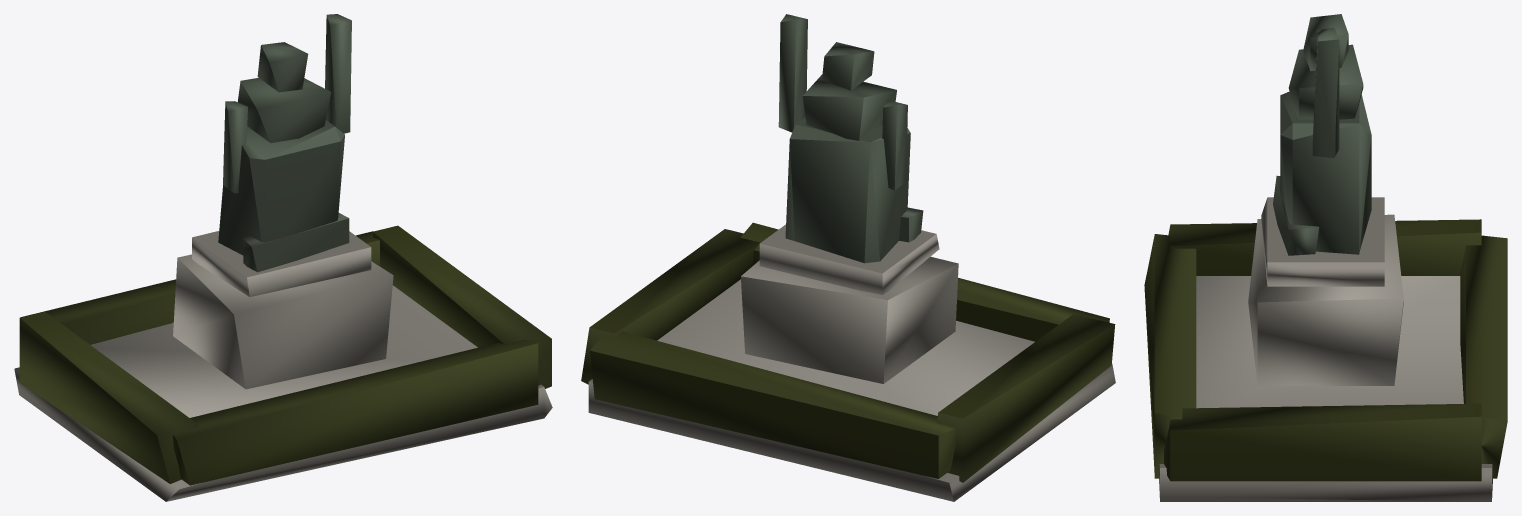
The model's file is statue-v1.lod2.glb.
The picture shows the model from 3 angles, left to right: view 1: azimuth 30°, elevation 25°; view 2: azimuth 150°, elevation 25°; view 3: azimuth 270°, elevation 25°; orthographic projection. The views are drawn at different scales.
Parts seen in each view (by area): view 1: statue-v1.lod2; view 2: statue-v1.lod2; view 3: statue-v1.lod2.
Part boxes in pixels (bbox=[...]): statue-v1.lod2: bbox=[14, 14, 552, 501]; statue-v1.lod2: bbox=[581, 14, 1115, 501]; statue-v1.lod2: bbox=[1144, 14, 1507, 501].
Bounding box in the file's own units: 4.7 × 4.29 × 3.5.
